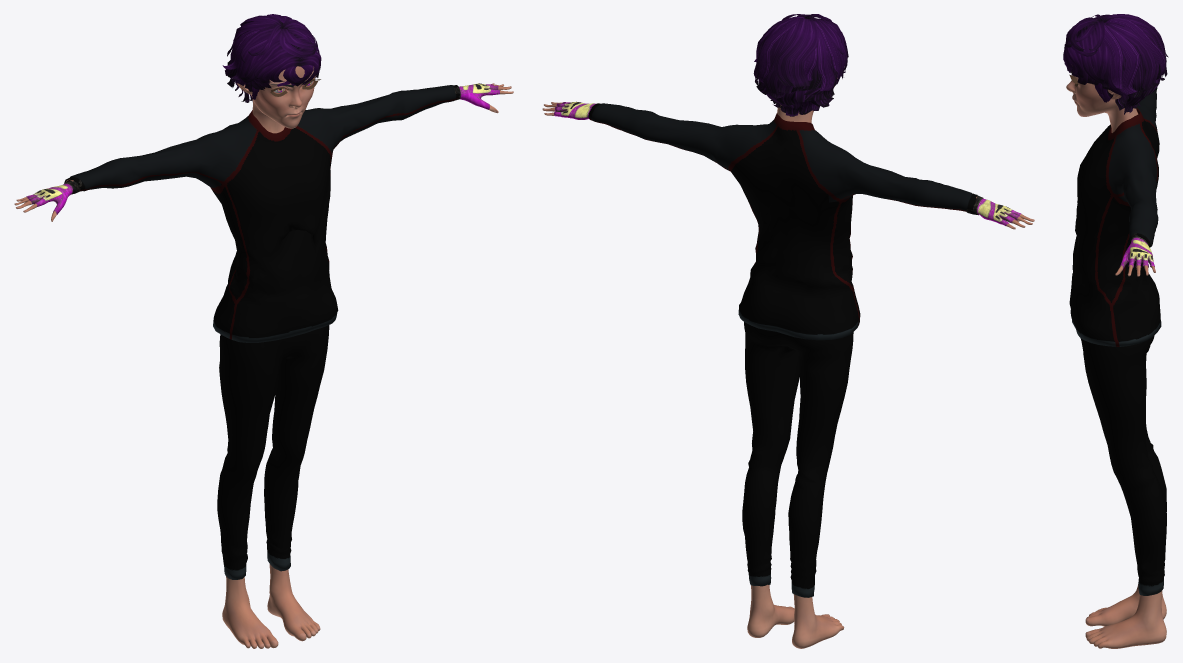
The picture shows the model from 3 angles, left to right: view 1: azimuth 30°, elevation 25°; view 2: azimuth 150°, elevation 25°; view 3: azimuth 270°, elevation 25°; orthographic projection.
Parts seen in each view (by area): view 1: Tops, Bottoms, Body, Hair, Gloves; view 2: Tops, Bottoms, Hair, Body, Gloves; view 3: Tops, Bottoms, Hair, Body, Gloves.
Boxes of the visible parts, left/top/right/bottom form: Tops: left=64, top=85, right=459, bottom=342; Bottoms: left=217, top=325, right=329, bottom=579; Body: left=14, top=66, right=513, bottom=648; Hair: left=222, top=14, right=321, bottom=102; Gloves: left=26, top=83, right=499, bottom=214; Tops: left=588, top=103, right=977, bottom=340; Bottoms: left=742, top=322, right=853, bottom=597; Hair: left=753, top=14, right=848, bottom=116; Body: left=542, top=78, right=1034, bottom=648; Gloves: left=554, top=101, right=1021, bottom=225; Tops: left=1069, top=87, right=1161, bottom=346; Bottoms: left=1081, top=335, right=1166, bottom=595; Hair: left=1063, top=14, right=1168, bottom=114; Body: left=1066, top=71, right=1166, bottom=648; Gloves: left=1120, top=230, right=1154, bottom=269.
Bounding box in the file's own units: 139 × 166 × 25.77.
5 materials, 5 textured.
